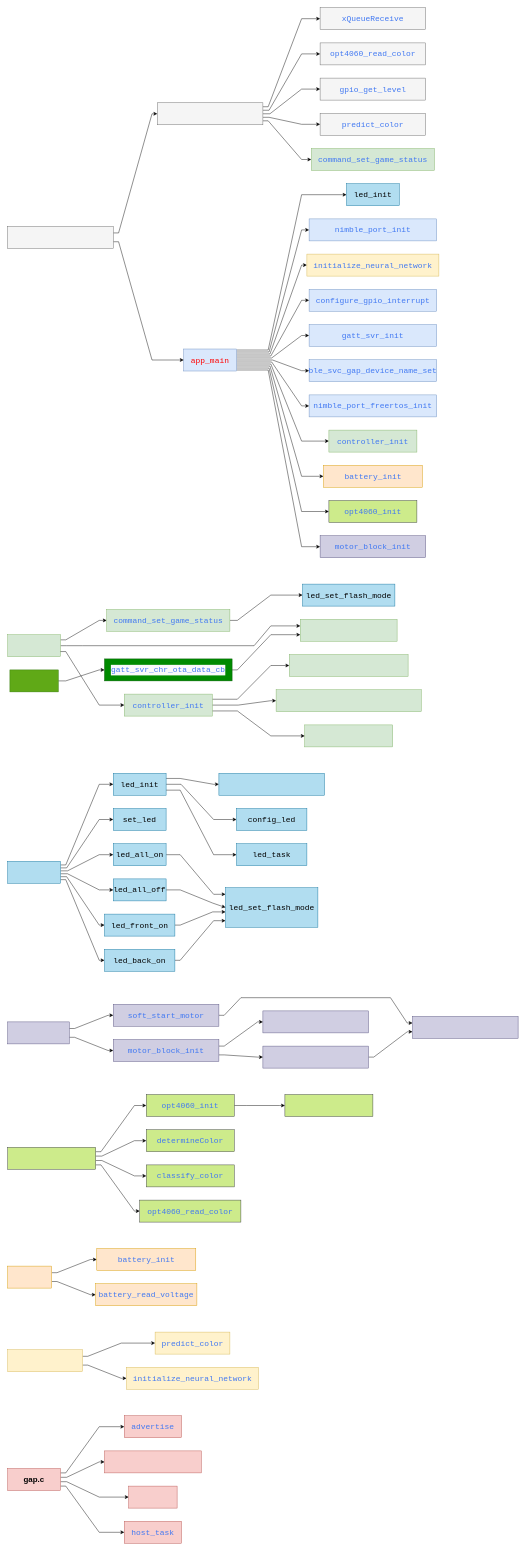
Image size: 526x1551. Some labels were removed from this diagram. Here are the shapes that lost their labels. From the top down, the centre of each, then its label:
At (x=210, y=113): "gpio_interrupt_task".
At (x=60, y=237): "main.c".
At (x=33, y=645): "controller.c".
At (x=348, y=630): "set_motor_command".
At (x=33, y=680): "gatt_svr.c".
At (x=348, y=665): "command_timer_callback".
At (x=348, y=700): "command_game_timer_callback".
At (x=348, y=735): "controller_task".
At (x=271, y=784): "led_set_flash_period".
At (x=33, y=872): "led.c".
At (x=38, y=1032): "motor.c".
At (x=315, y=1021): "configure_motor_pwm".
At (x=465, y=1027): "set_motor_speed".
At (x=315, y=1057): "motor_task".
At (x=328, y=1105): "i2c_master_init".
At (x=51, y=1158): "opt40660.c".
At (x=29, y=1277): "battery.c".
At (x=44, y=1360): "color_predictor.c".
At (x=152, y=1461): "gap_event_handler".
At (x=152, y=1497): "sync_cb".
